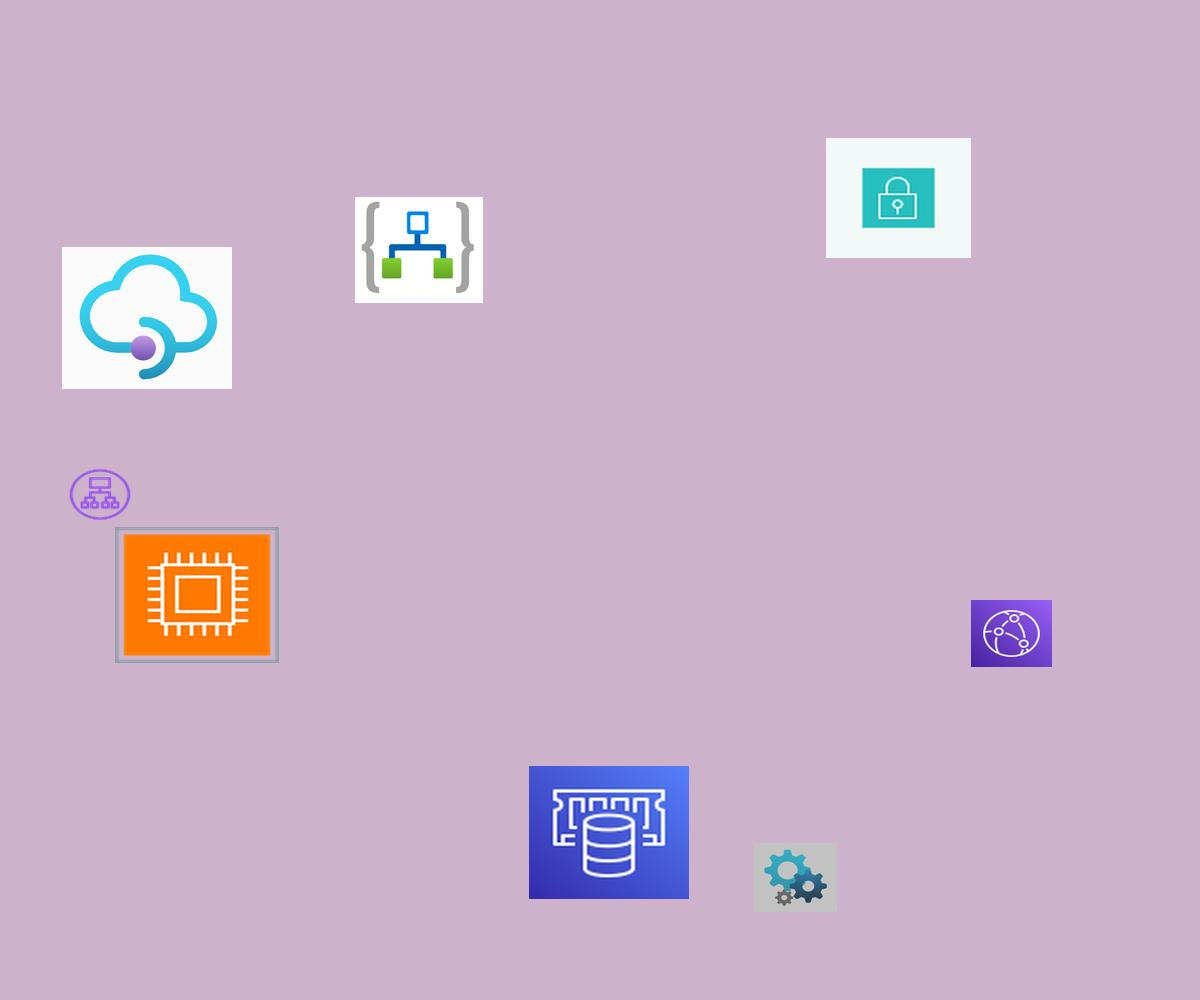AWS-Category_Compute: (115, 527, 279, 663)
AWS-CloudFront: (971, 600, 1052, 667)
AWS-ElastiCache: (529, 766, 689, 899)
AWS-Private-subnet: (826, 138, 971, 258)
AWS-Res_Elastic-Load-Balancing_Application-Load-Balancer: (67, 467, 133, 522)
Azure_api: (754, 843, 837, 912)
Azure_api_gateway: (62, 247, 232, 389)
Azure_integration-204-Logic-Apps: (355, 197, 483, 303)
